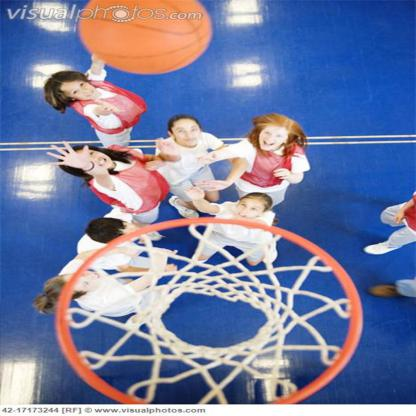face: (77, 151, 113, 171), (73, 273, 103, 291), (176, 127, 202, 147), (260, 132, 286, 152), (235, 201, 261, 220), (73, 82, 98, 101)
